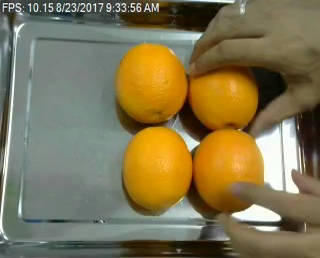Orange: (123, 126, 191, 213), (115, 42, 188, 122)
